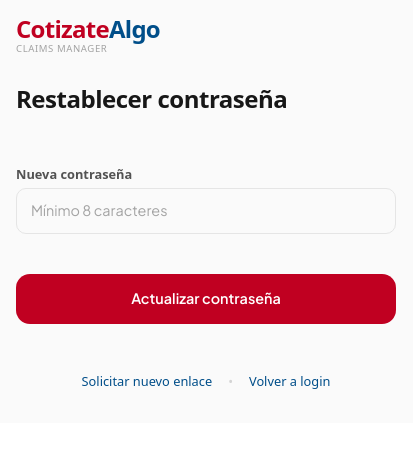
Scenario: ResetPasswordForm › shows API error inline and keeps recovery link visible
Step 1. Type "BrandNewPass123!" into the password field labelled "Nueva contraseña" → [206, 211], box x1=16 y1=188 x2=396 y2=234
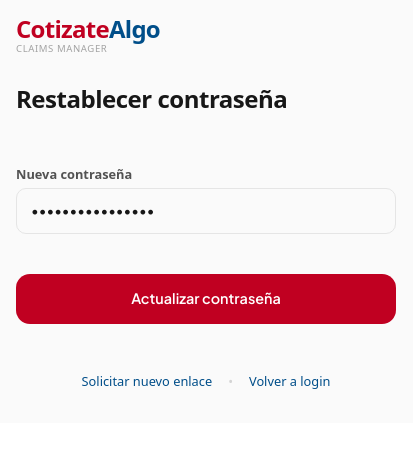
Step 2. Click the button "Actualizar contraseña" → [206, 299], box x1=16 y1=274 x2=396 y2=324
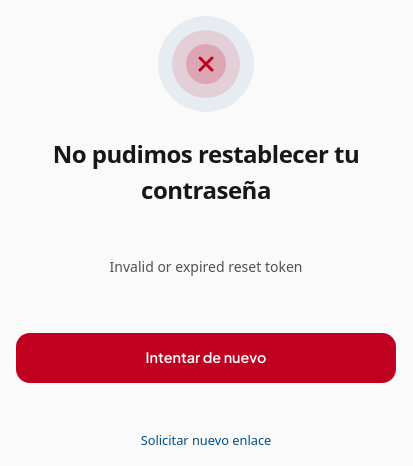
Expected: the link "Solicitar nuevo enlace" is shown, x1=141 y1=431 x2=271 y2=450
Now the text "Invalid or expired reset token" is shown, box x1=110 y1=256 x2=302 y2=277
